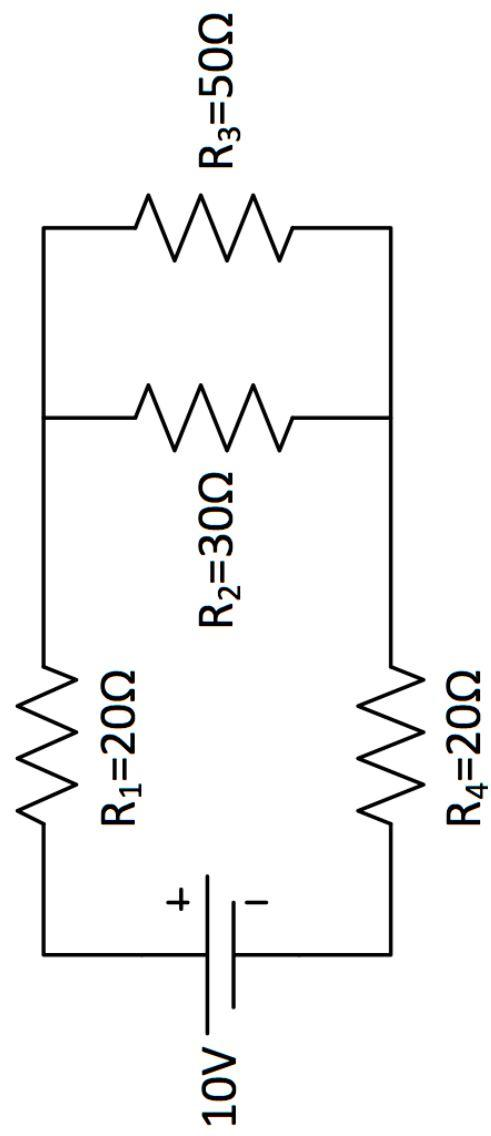resistor: (334, 612, 429, 870), (100, 163, 312, 277), (103, 357, 324, 443), (2, 636, 82, 870)
